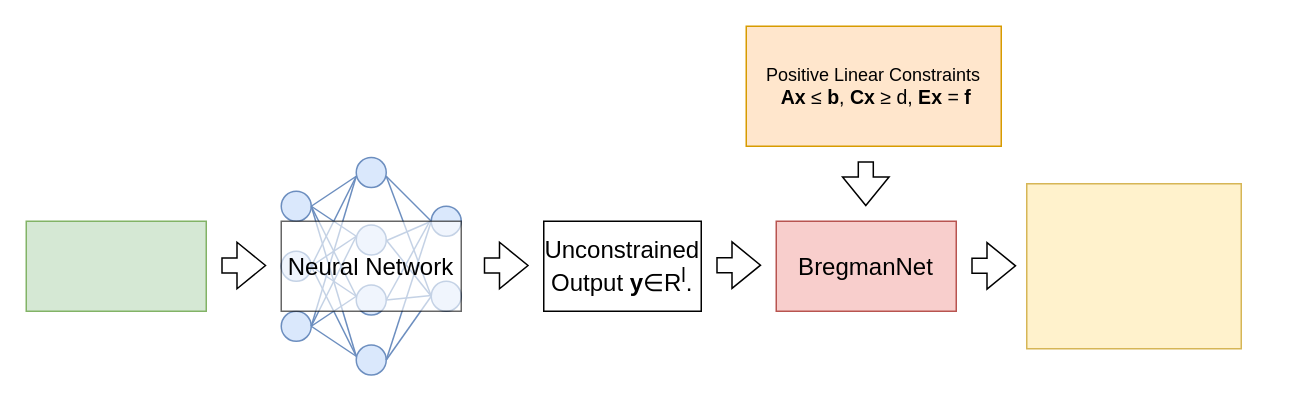
Some shapes in this 1305 by 402 pixel diagram are drawn without their labels. The box of each missing label's shape, as (x1, y1, x2, y2) in pixels:
Constrained Output x subject to A x ≤ b , C x ≥ d , E x = f .: (1025, 182, 1241, 349)
Raw Input: (25, 220, 206, 311)
